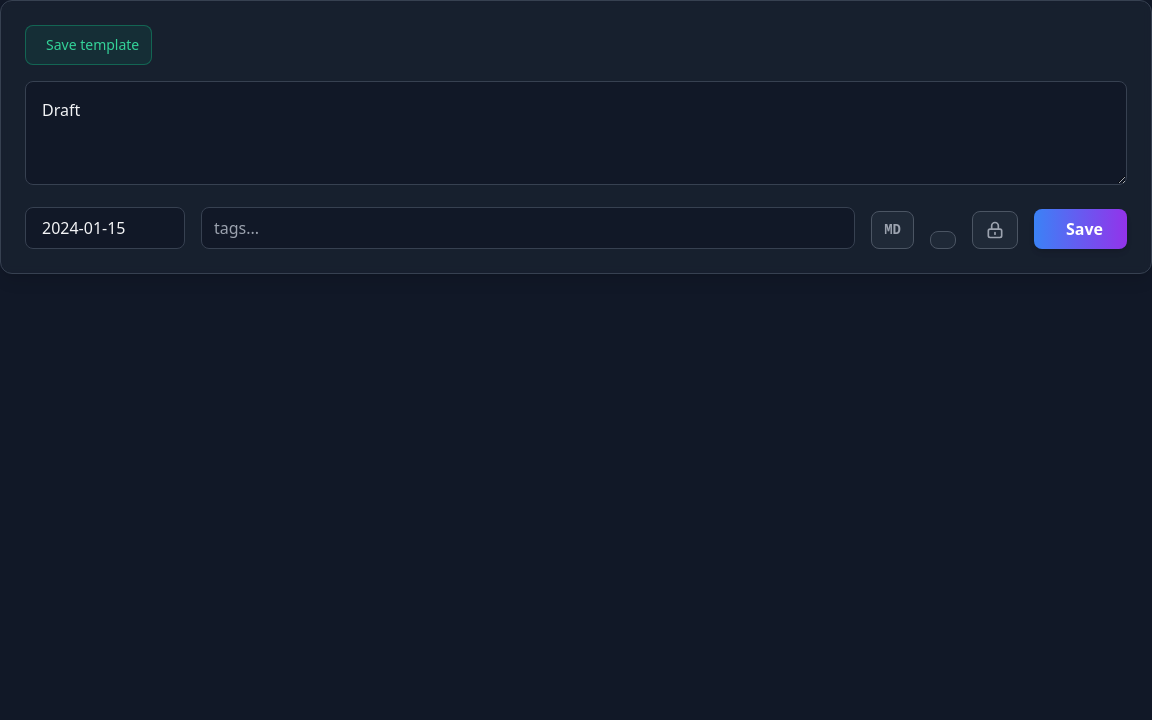
Scenario: EntryForm templates › closes the name dialog without saving on Cancel
Click the button "Save template": (89,45) [25, 25, 152, 65]
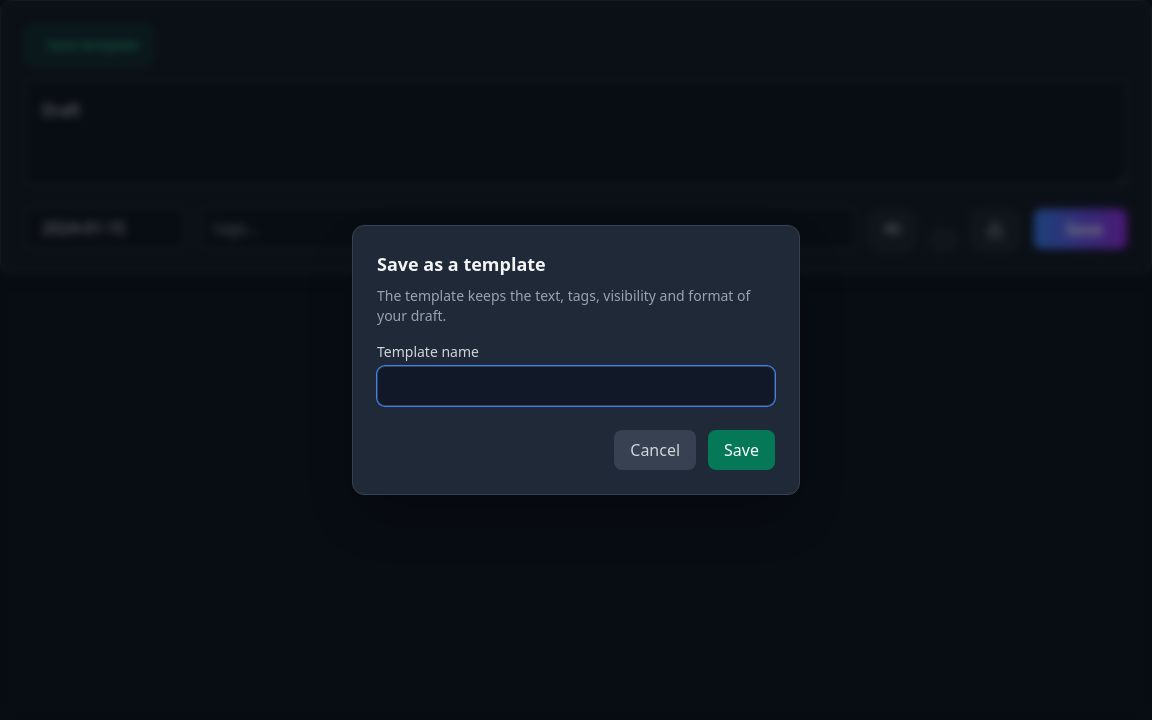
Click the button "Cancel": (655,450) [614, 430, 696, 470]
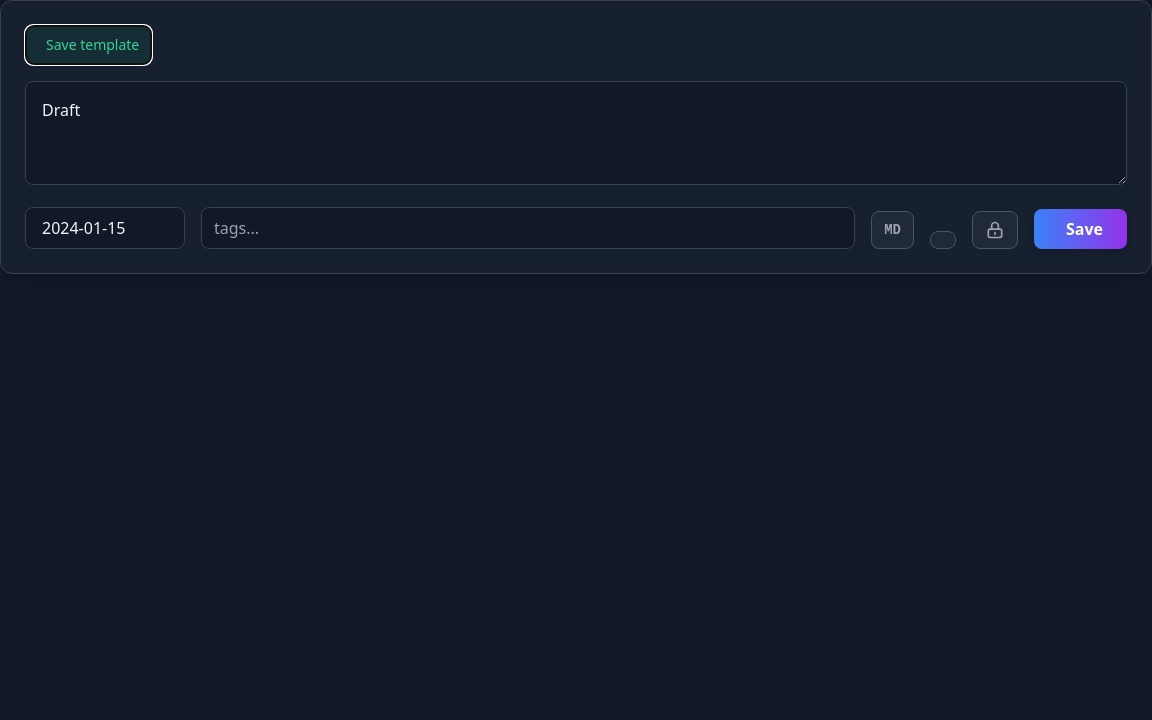
Check: the dialog is gone
